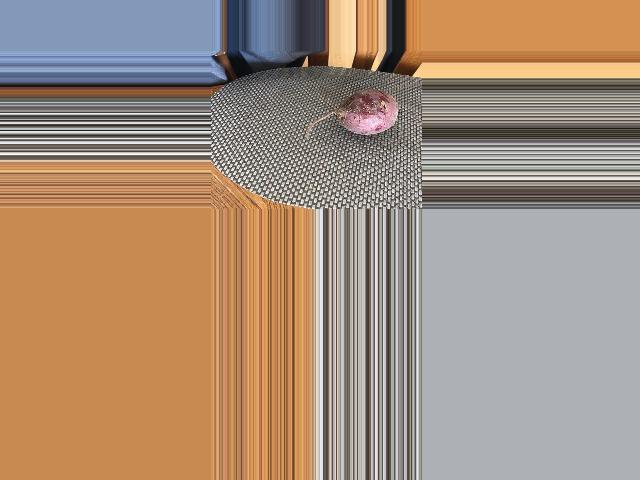beet: (306, 89, 397, 140)
